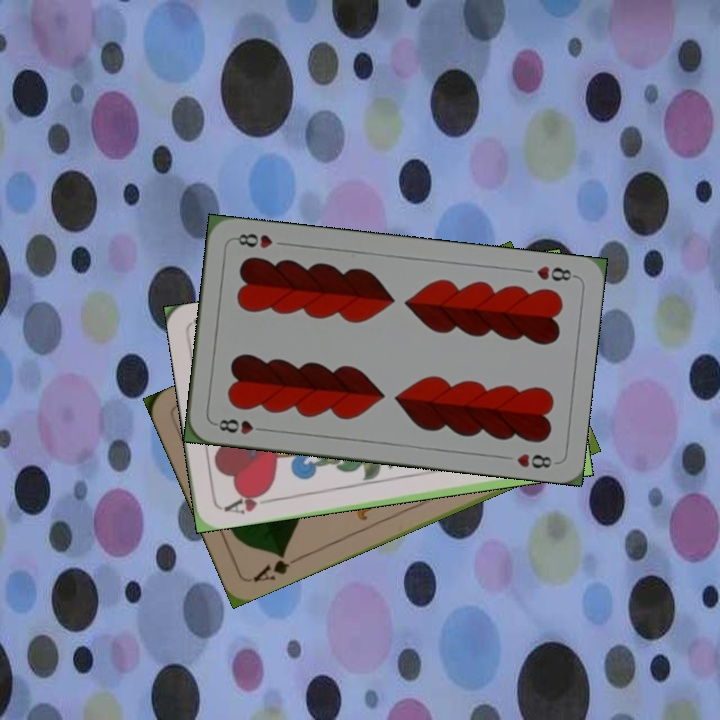GA: (249, 548, 303, 585)
H8: (211, 415, 270, 437), (532, 262, 579, 284)
HA: (220, 486, 277, 517)
